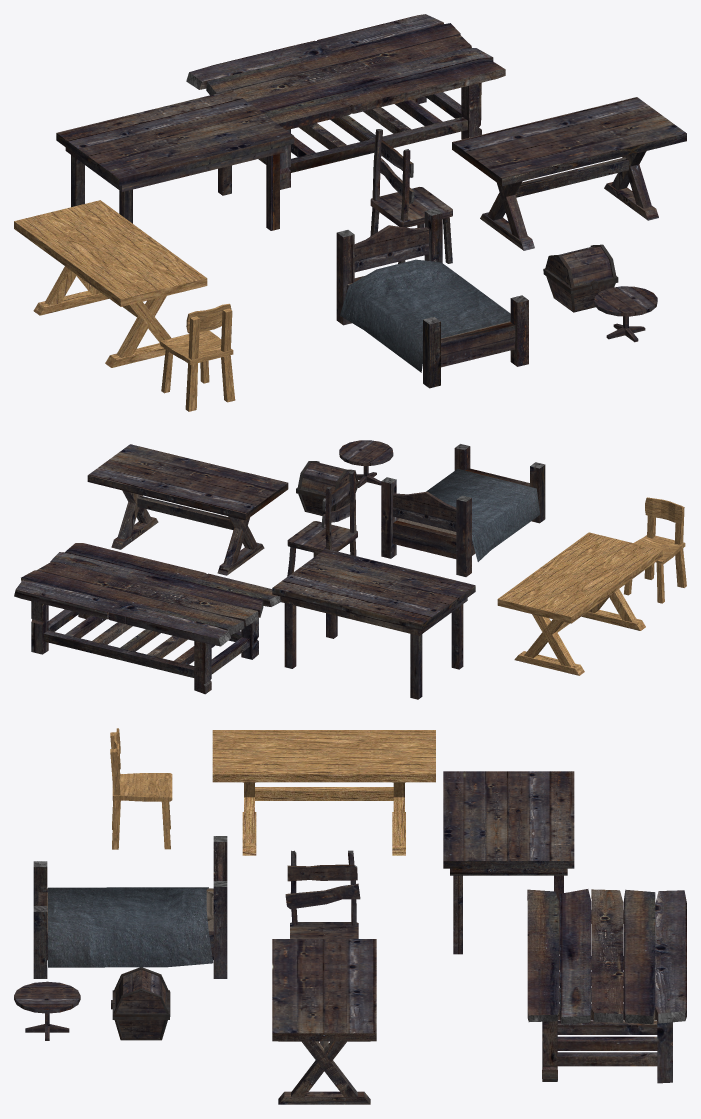
The picture shows the model from 3 angles, top to bottom: view 1: azimuth 30°, elevation 25°; view 2: azimuth 150°, elevation 25°; view 3: azimuth 270°, elevation 25°; orthographic projection. The views are drawn at different scales.
Parts seen in each view (by area): view 1: WorkTable, TableKitchenOld, TableOld, TableFinished, Blanket, Bed, ChairFinished, ChairOld, ChestTop, TableBedside, ChestBottom; view 2: WorkTable, TableKitchenOld, TableOld, TableFinished, Bed, Blanket, ChairOld, ChairFinished, TableBedside, ChestTop, ChestBottom; view 3: WorkTable, TableFinished, TableKitchenOld, TableOld, Blanket, Bed, ChairOld, ChairFinished, ChestTop, TableBedside, ChestBottom.
Boxes of the visible parts, left/top/right/bottom form: WorkTable: left=186, top=14, right=505, bottom=189; TableKitchenOld: left=56, top=90, right=294, bottom=230; TableOld: left=452, top=97, right=686, bottom=250; TableFinished: left=14, top=200, right=207, bottom=367; Blanket: left=340, top=259, right=510, bottom=372; Bed: left=336, top=208, right=528, bottom=388; ChairFinished: left=160, top=303, right=235, bottom=411; ChairOld: left=370, top=129, right=452, bottom=263; ChestTop: left=543, top=244, right=618, bottom=291; TableBedside: left=594, top=286, right=657, bottom=342; ChestBottom: left=543, top=272, right=618, bottom=312; WorkTable: left=14, top=543, right=280, bottom=694; TableKitchenOld: left=272, top=549, right=475, bottom=699; TableOld: left=87, top=444, right=288, bottom=575; TableFinished: left=497, top=532, right=662, bottom=675; Bed: left=381, top=444, right=545, bottom=576; Blanket: left=426, top=469, right=540, bottom=561; ChairOld: left=287, top=470, right=357, bottom=576; ChairFinished: left=624, top=497, right=686, bottom=603; TableBedside: left=339, top=440, right=393, bottom=487; ChestTop: left=296, top=461, right=359, bottom=497; ChestBottom: left=296, top=484, right=359, bottom=515; WorkTable: left=527, top=889, right=686, bottom=1083; TableFinished: left=212, top=730, right=435, bottom=855; TableKitchenOld: left=443, top=771, right=574, bottom=954; TableOld: left=272, top=939, right=376, bottom=1104; Blanket: left=48, top=887, right=213, bottom=967; Bed: left=33, top=836, right=227, bottom=978; ChairOld: left=285, top=850, right=360, bottom=938; ChairFinished: left=110, top=728, right=172, bottom=849; ChestTop: left=112, top=967, right=170, bottom=1016; TableBedside: left=14, top=981, right=80, bottom=1040; ChestBottom: left=112, top=1017, right=169, bottom=1040.
Size of the model in its own units: 778 by 159 by 729.
Materials: 6 (6 with a texture image).
